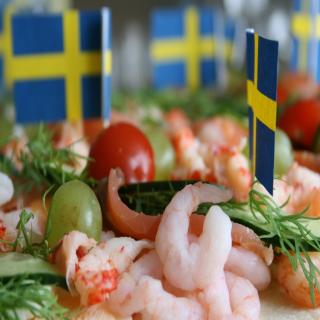tomato: (85, 124, 157, 185)
